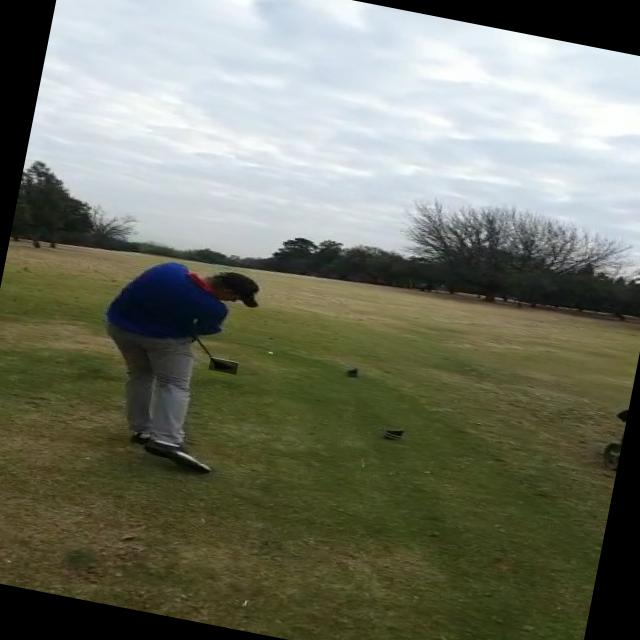club head: (208, 357, 238, 375)
